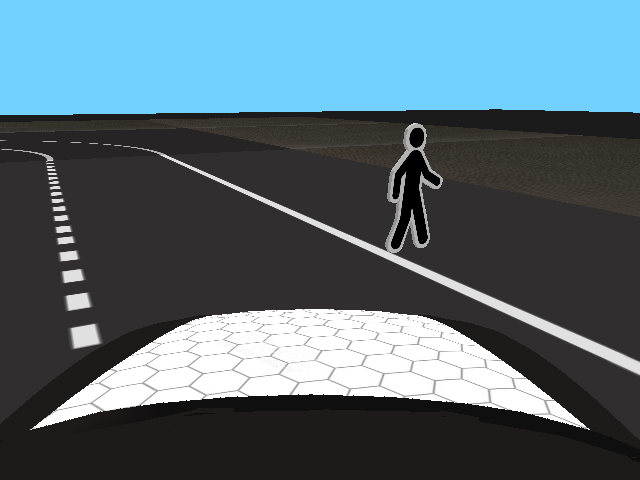pedestrian: (386, 121, 443, 251)
